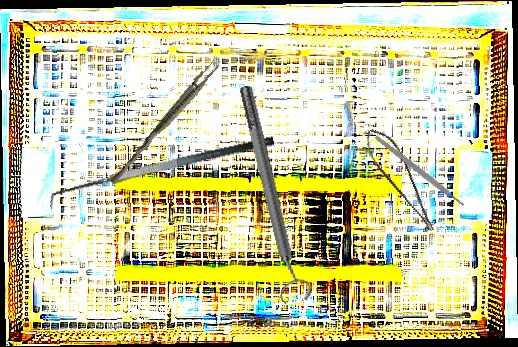Fixation Ring: (229, 81, 315, 307)
Micro Scissor: (359, 121, 439, 242)
Scalpel Handle: (373, 134, 466, 208)
Spatula Surgical: (45, 135, 279, 213)
Tissue Forceps: (108, 57, 221, 189)
